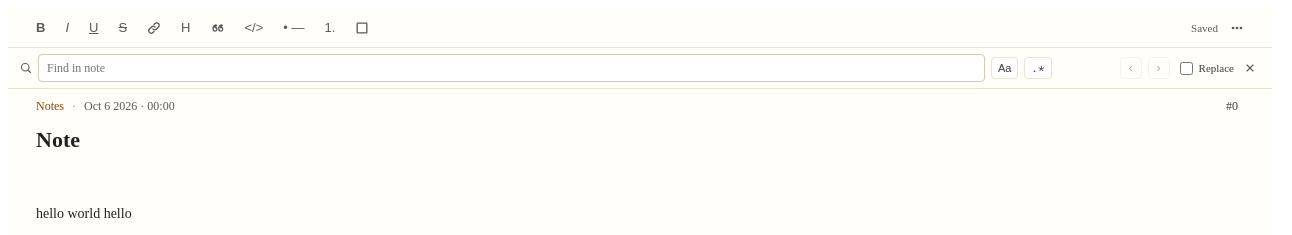
Test: find in note keeps focus in the find bar › Enter steps through matches and focus never leaves the find bar
Type "hel" into the field with class "find-input".
click(511, 68); type("hel")  # box [38,54,985,82]
Wait 400 ms
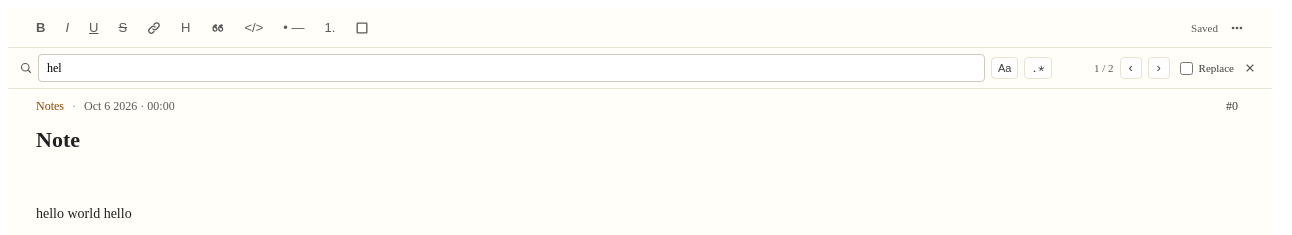
Press Enter in the field with class "find-input", box [38,54,985,82]
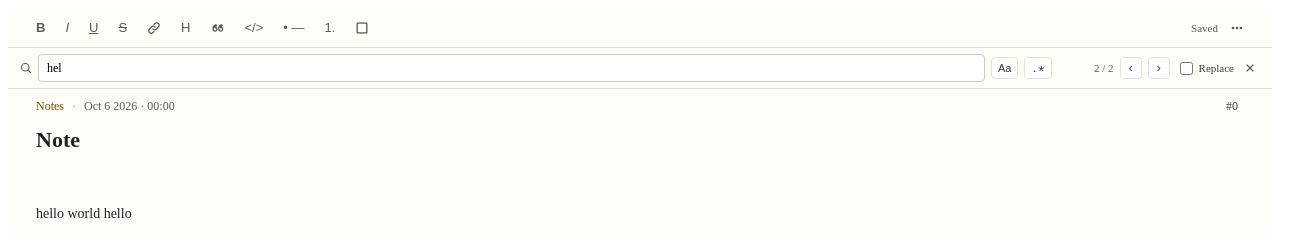
Result: the text with class "find-count" reads "2 / 2" at [1094,62,1114,74]
Press Enter in the field with class "find-input", box [38,54,985,82]
(page scrolled)
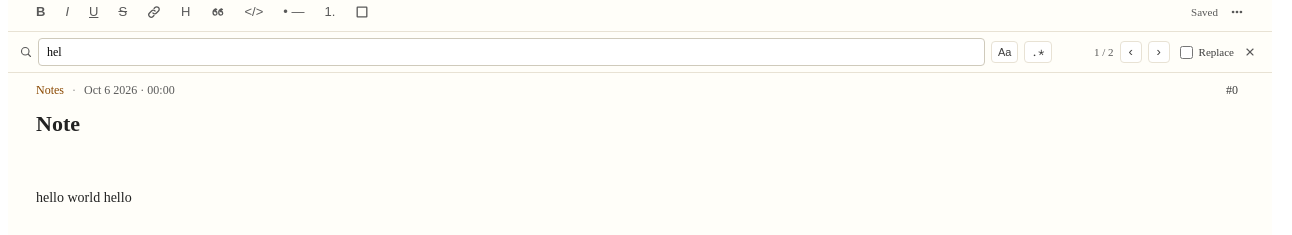
Expected: the field with class "editor-body" reads "hello world hello", [36,190,132,205]
Result: the text with class "find-count" reads "1 / 2" at [1094,46,1114,58]
